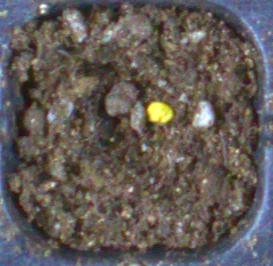pepper seed: (59, 39, 235, 164)
